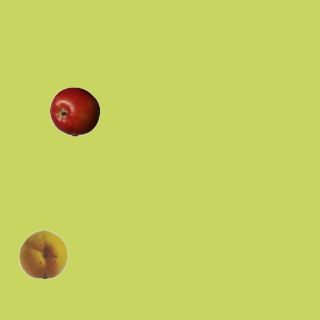Apple Braeburn: (49, 86, 99, 136)
Peach 2: (18, 228, 68, 278)
